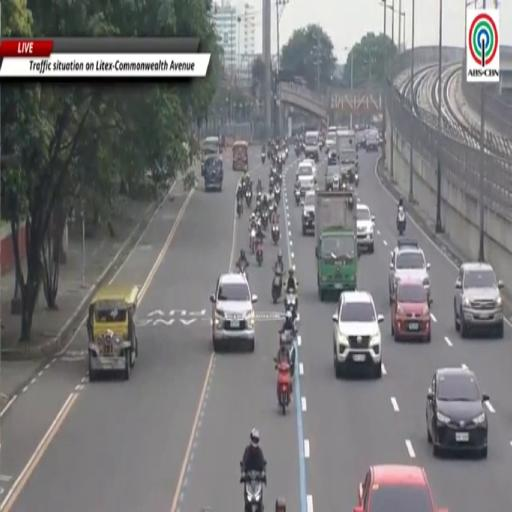car: (426, 367, 489, 457), (354, 464, 448, 511), (333, 292, 383, 378), (454, 263, 504, 338), (210, 274, 257, 351), (389, 238, 431, 303), (391, 280, 431, 342), (357, 203, 375, 253), (297, 162, 315, 197), (301, 191, 315, 235), (304, 132, 320, 162), (325, 164, 340, 190), (302, 158, 317, 178), (366, 130, 379, 152), (326, 131, 336, 152), (356, 131, 365, 149), (328, 151, 338, 166)
jeepney: (87, 285, 139, 381), (201, 137, 221, 171), (233, 141, 248, 170)
motorcycle: (241, 471, 264, 511), (275, 360, 291, 414), (280, 331, 296, 376), (271, 274, 282, 303), (285, 291, 297, 317), (397, 207, 406, 235), (256, 239, 264, 267), (271, 223, 279, 245), (236, 198, 244, 218), (250, 228, 256, 253), (239, 265, 248, 281), (274, 184, 281, 203), (262, 210, 268, 230), (246, 189, 252, 207), (294, 188, 300, 205), (269, 174, 275, 189), (333, 175, 339, 190), (354, 171, 359, 186), (285, 146, 289, 159), (295, 146, 300, 156), (261, 152, 265, 164)
truck: (315, 190, 358, 301), (337, 131, 358, 184), (202, 154, 223, 191)
